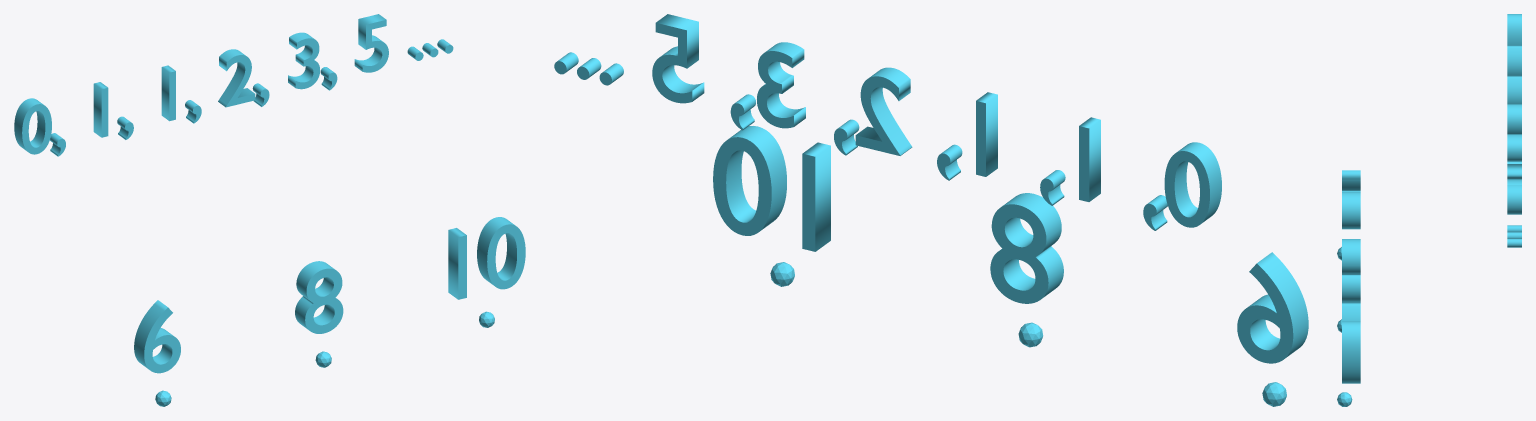
Rendered from console_test_006.fbx.
3 views of the same model, side by side, from view 1: azimuth 30°, elevation 25°; view 2: azimuth 150°, elevation 25°; view 3: azimuth 270°, elevation 25° (orthographic). The views are drawn at different scales.
Parts seen in each view (by area): view 1: Txt_Test_01.002, Failure.005, Success.036, Failure.003; view 2: Txt_Test_01.002, Failure.005, Success.036, Failure.003; view 3: Txt_Test_01.002, Failure.005, Success.036, Failure.003, Untitled.021.
Boxes of the visible parts, bbox=[...] form: Txt_Test_01.002: bbox=[14, 14, 453, 156]; Failure.005: bbox=[448, 217, 525, 299]; Success.036: bbox=[295, 261, 343, 333]; Failure.003: bbox=[134, 300, 180, 373]; Txt_Test_01.002: bbox=[554, 14, 1221, 230]; Failure.005: bbox=[713, 126, 830, 251]; Success.036: bbox=[990, 193, 1063, 303]; Failure.003: bbox=[1237, 252, 1308, 363]; Txt_Test_01.002: bbox=[1507, 14, 1521, 247]; Failure.005: bbox=[1342, 302, 1360, 383]; Success.036: bbox=[1342, 239, 1360, 301]; Failure.003: bbox=[1342, 170, 1360, 229]; Untitled.021: bbox=[1337, 392, 1352, 406].
Bounding box in the file's own units: 1.5 × 0.8186 × 0.6011.
